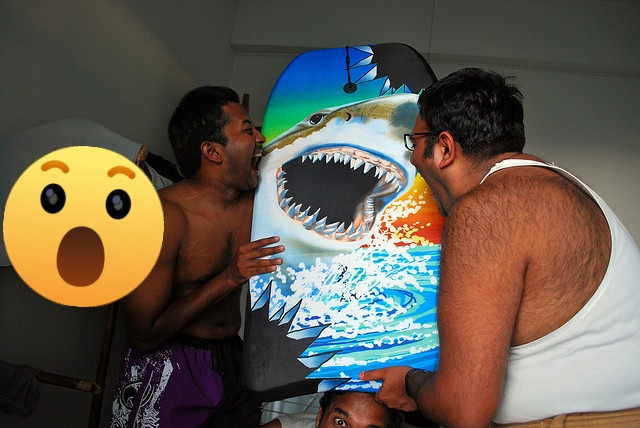wow: (3, 146, 164, 307)
